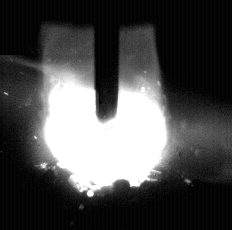arame: (95, 0, 119, 124)
poca: (42, 0, 169, 230)
